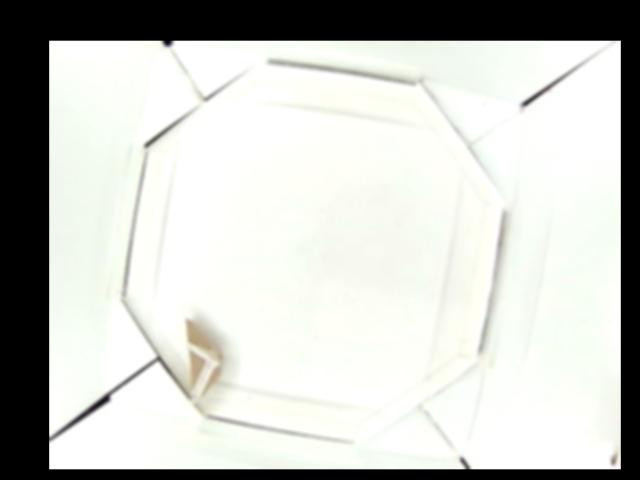China: (184, 317, 223, 401)
